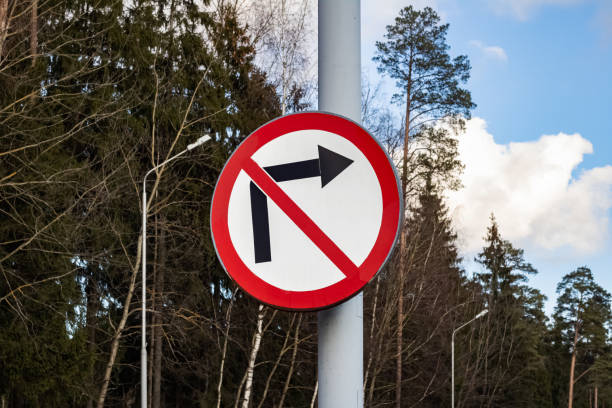saga_donulmez: (208, 110, 408, 313)
